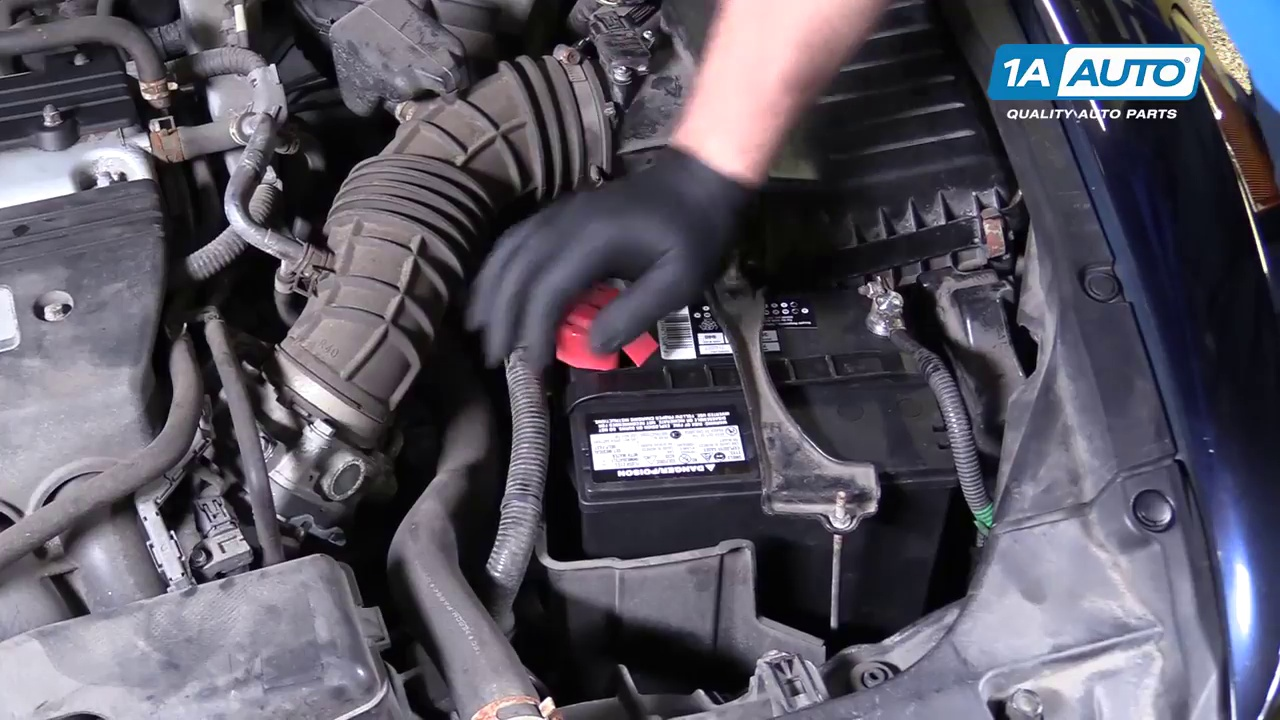battery: (563, 284, 951, 496)
neg_connected: (840, 255, 952, 381)
pos_touched: (519, 259, 658, 380)
